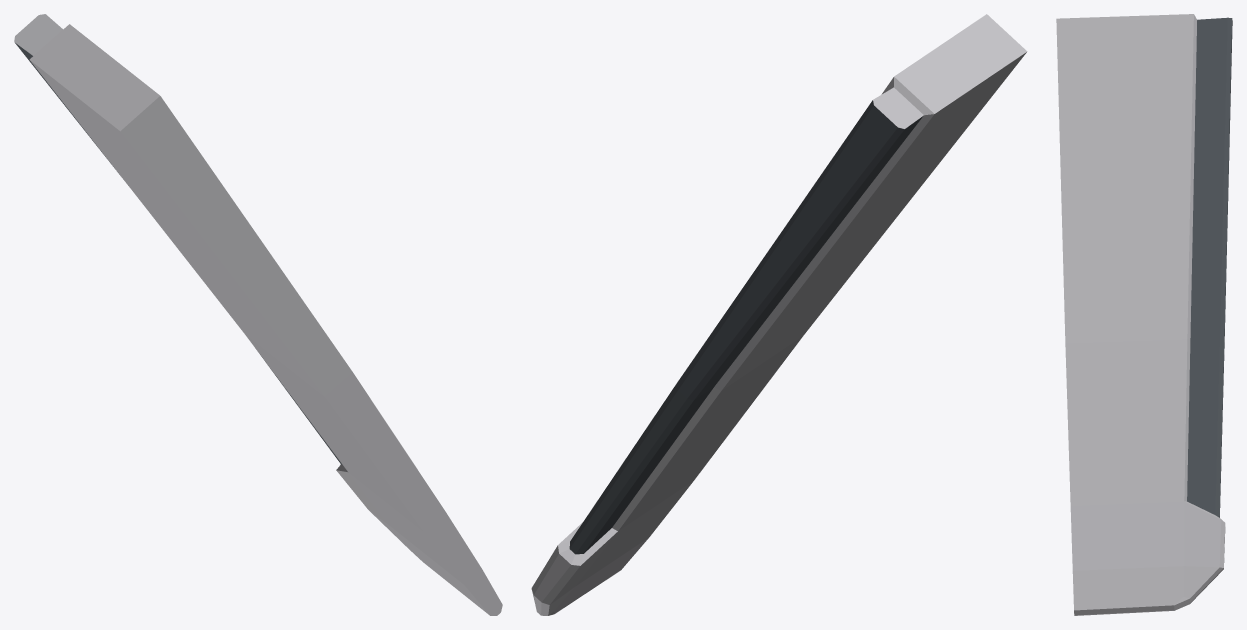
Rendered from Fighter_06_Auxillary_Wing_Left.fbx.
3 renders of one model, left to right at view 1: azimuth 30°, elevation 25°; view 2: azimuth 150°, elevation 25°; view 3: azimuth 270°, elevation 25°, orthographic. The views are drawn at different scales.
Parts seen in each view (by area): view 1: Fighter_06_Auxillary_Wing_Left; view 2: Fighter_06_Auxillary_Wing_Left; view 3: Fighter_06_Auxillary_Wing_Left.
Boxes of the visible parts, x1=… form: Fighter_06_Auxillary_Wing_Left: x1=14, y1=14, x2=502, y2=615; Fighter_06_Auxillary_Wing_Left: x1=531, y1=14, x2=1027, y2=615; Fighter_06_Auxillary_Wing_Left: x1=1056, y1=14, x2=1232, y2=615.
Bounding box in the file's own units: 276 × 414 × 140.
Materials: 1 (1 with a texture image).
